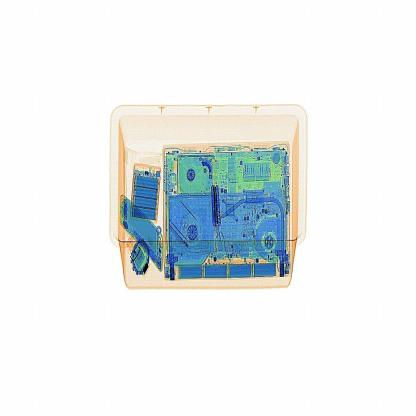scissors: (208, 179, 232, 235)
